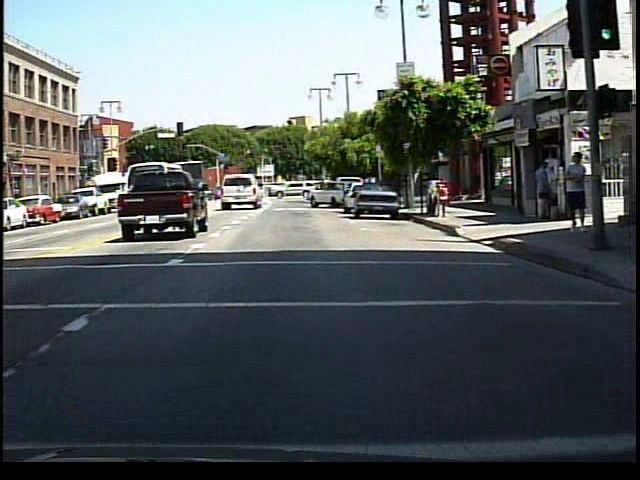person: (559, 151, 590, 235), (533, 157, 550, 223)
